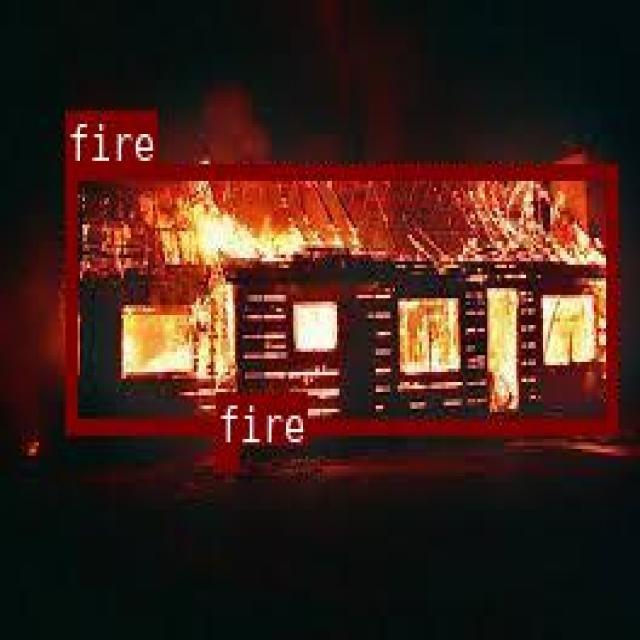fire: (63, 162, 616, 432), (215, 443, 236, 467)
